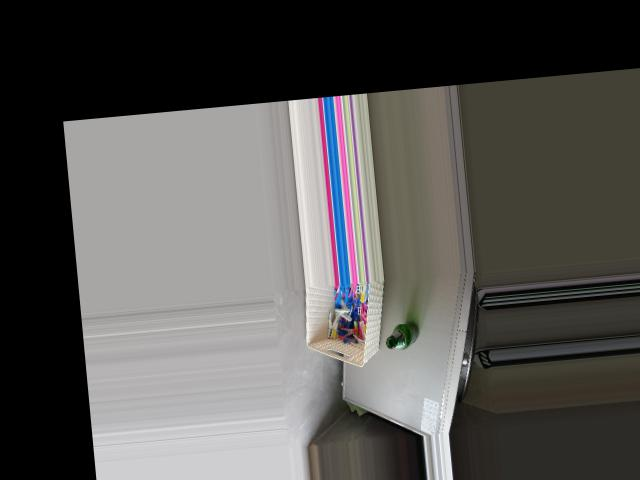beer: (385, 321, 421, 349)
